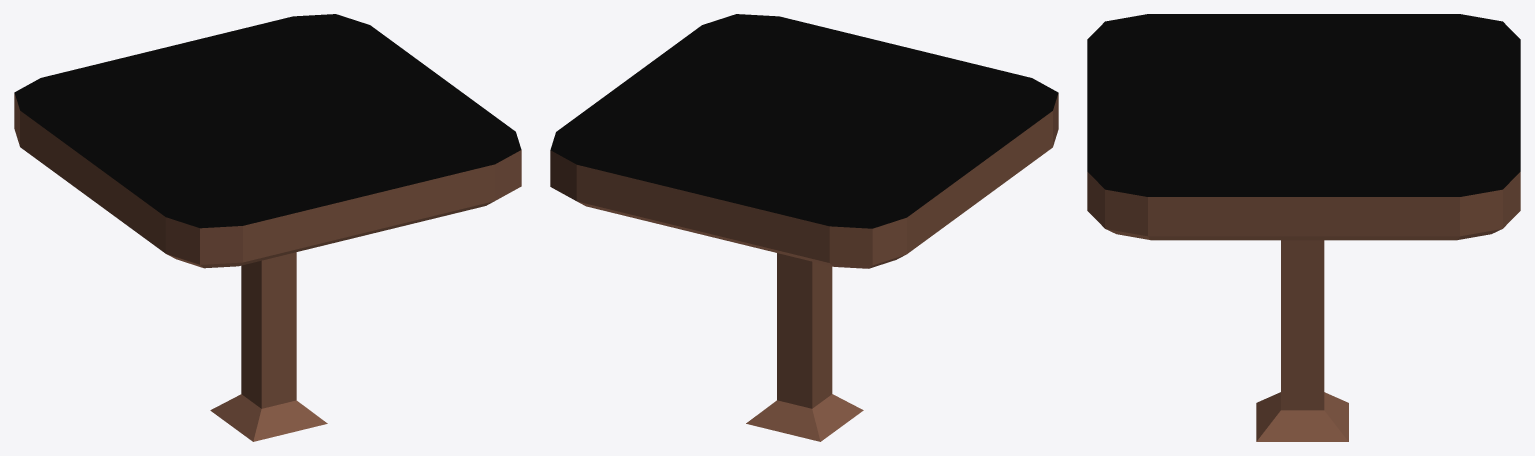
Rendered from Table.fbx.
3 renders of one model, left to right at view 1: azimuth 30°, elevation 25°; view 2: azimuth 150°, elevation 25°; view 3: azimuth 270°, elevation 25°, orthographic. The views are drawn at different scales.
Parts seen in each view (by area): view 1: Table; view 2: Table; view 3: Table.
Part boxes in pixels (bbox=[...]): Table: bbox=[14, 14, 521, 441]; Table: bbox=[550, 14, 1058, 441]; Table: bbox=[1087, 14, 1520, 441].
Bounding box in the file's own units: 1 × 0.8066 × 1.
